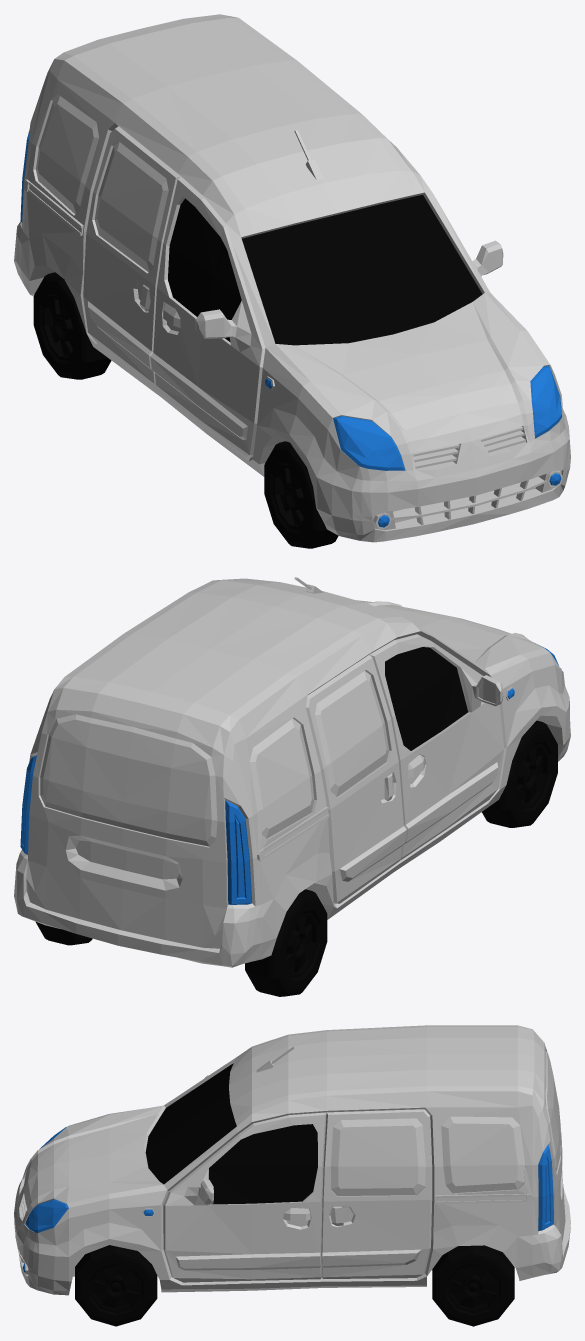
Rendered from SM_car_Postal.fbx.
The picture shows the model from 3 angles, top to bottom: view 1: azimuth 30°, elevation 25°; view 2: azimuth 150°, elevation 25°; view 3: azimuth 270°, elevation 25°; orthographic projection. The views are drawn at different scales.
Visible parts, largest first — view 1: car, wheel, wheel1; view 2: car, wheel, wheel1; view 3: car, wheel, wheel2.
Boxes of the visible parts, x1=… form: car: x1=14, y1=14, x2=570, y2=542; wheel: x1=33, y1=272, x2=111, y2=379; wheel1: x1=264, y1=441, x2=338, y2=548; car: x1=14, y1=577, x2=570, y2=967; wheel: x1=35, y1=889, x2=327, y2=996; wheel1: x1=482, y1=720, x2=557, y2=827; car: x1=14, y1=1025, x2=570, y2=1295; wheel: x1=432, y1=1245, x2=514, y2=1326; wheel2: x1=75, y1=1245, x2=157, y2=1326.
Bounding box in the file's own units: 201 × 191 × 410.
